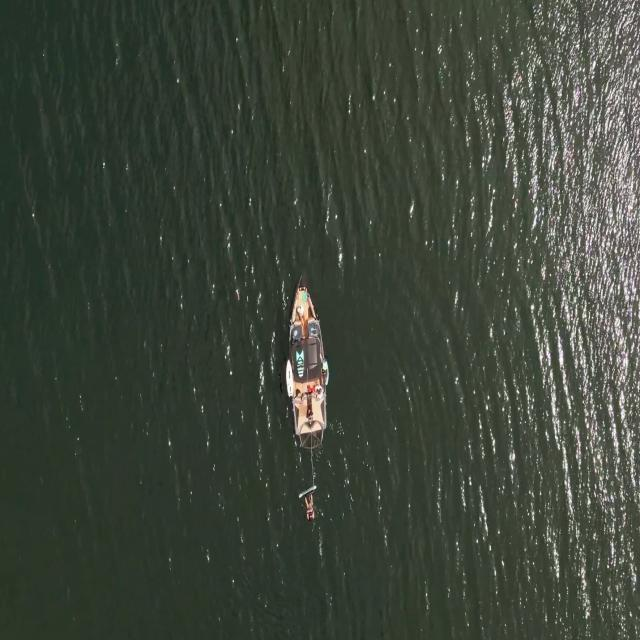ship: (292, 285, 324, 455), (286, 357, 294, 402)
